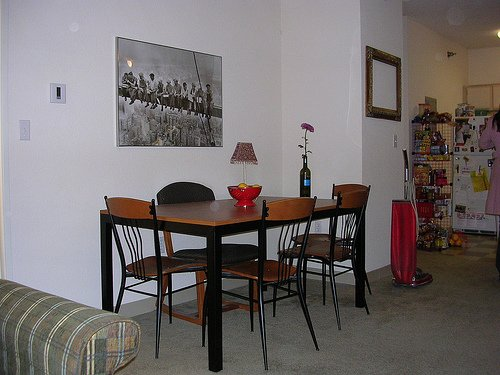bottle: (300, 159, 312, 198)
chair: (214, 199, 322, 371), (105, 199, 208, 359), (306, 186, 373, 330), (265, 199, 320, 350), (104, 196, 160, 317), (156, 183, 216, 204)
couch: (1, 282, 142, 375)
dining table: (154, 200, 270, 322)
person: (482, 113, 500, 286)
